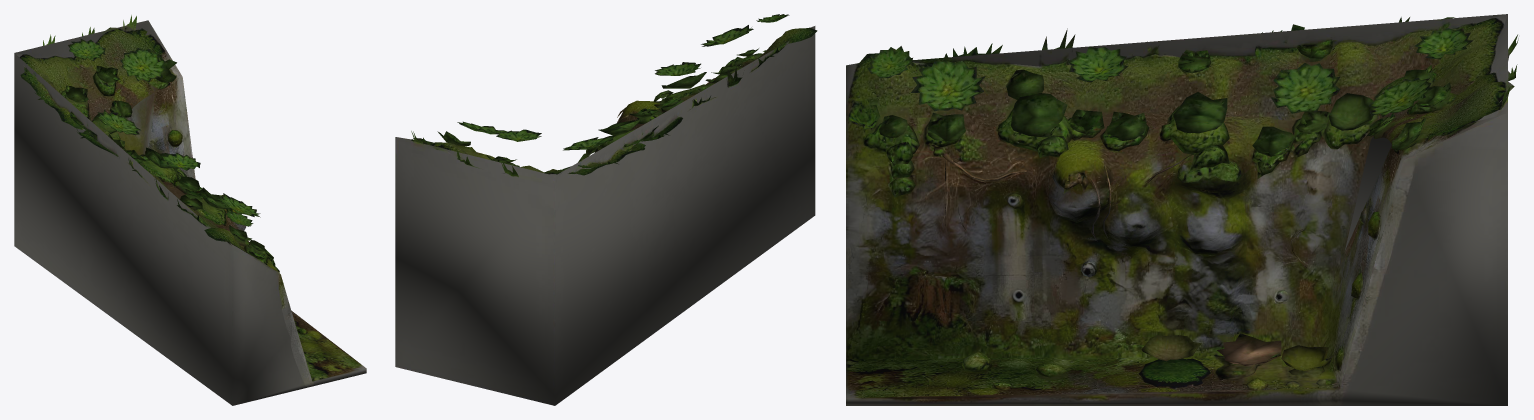
File: japanese_rock_cut_slope_v2.glb
The picture shows the model from 3 angles, left to right: view 1: azimuth 30°, elevation 25°; view 2: azimuth 150°, elevation 25°; view 3: azimuth 270°, elevation 25°; orthographic projection. The views are drawn at different scales.
Parts seen in each view (by area): view 1: tripo_node_6e64f3e2-92b4-4162-83b0-4737ca873132; view 2: tripo_node_6e64f3e2-92b4-4162-83b0-4737ca873132; view 3: tripo_node_6e64f3e2-92b4-4162-83b0-4737ca873132.
Boxes of the visible parts, bbox=[...] form: tripo_node_6e64f3e2-92b4-4162-83b0-4737ca873132: bbox=[14, 15, 366, 405]; tripo_node_6e64f3e2-92b4-4162-83b0-4737ca873132: bbox=[395, 14, 817, 405]; tripo_node_6e64f3e2-92b4-4162-83b0-4737ca873132: bbox=[846, 14, 1518, 405].
Size of the model in its own units: 0.3887 by 0.502 by 0.998.
1 material, 1 textured.
